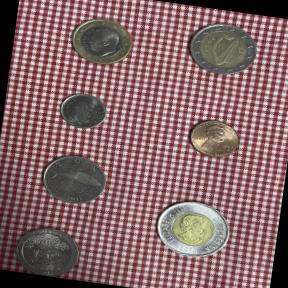1 Euro-B: (62, 6, 145, 75)
2 Euro-B: (180, 14, 266, 82)
Canada-10cent-B: (54, 86, 115, 136)
Canada-2Dollar-B: (146, 191, 240, 265)
Croatia-2Kune-B: (30, 142, 115, 213)
US-1cent-B: (182, 112, 245, 164)
US-25cent-B: (5, 216, 88, 280)
